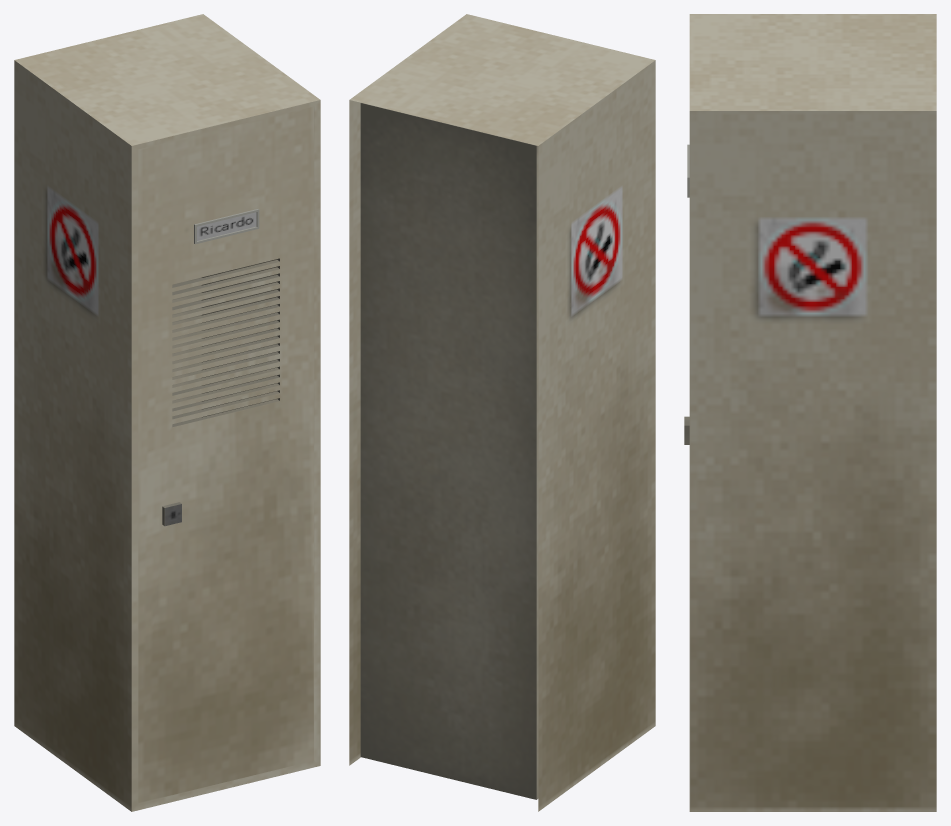
File: locker_02.fbx
3 renders of one model, left to right at view 1: azimuth 30°, elevation 25°; view 2: azimuth 150°, elevation 25°; view 3: azimuth 270°, elevation 25°, orthographic. The views are drawn at different scales.
Parts seen in each view (by area): view 1: locker_02_door, locker_02; view 2: locker_02; view 3: locker_02.
Part boxes in pixels (x1,y1,x2,y2): locker_02_door: (138, 106, 313, 803); locker_02: (14, 14, 320, 811); locker_02: (349, 14, 655, 811); locker_02: (689, 14, 936, 811).
Size of the model in its own units: 60.38 by 203 by 66.35.
